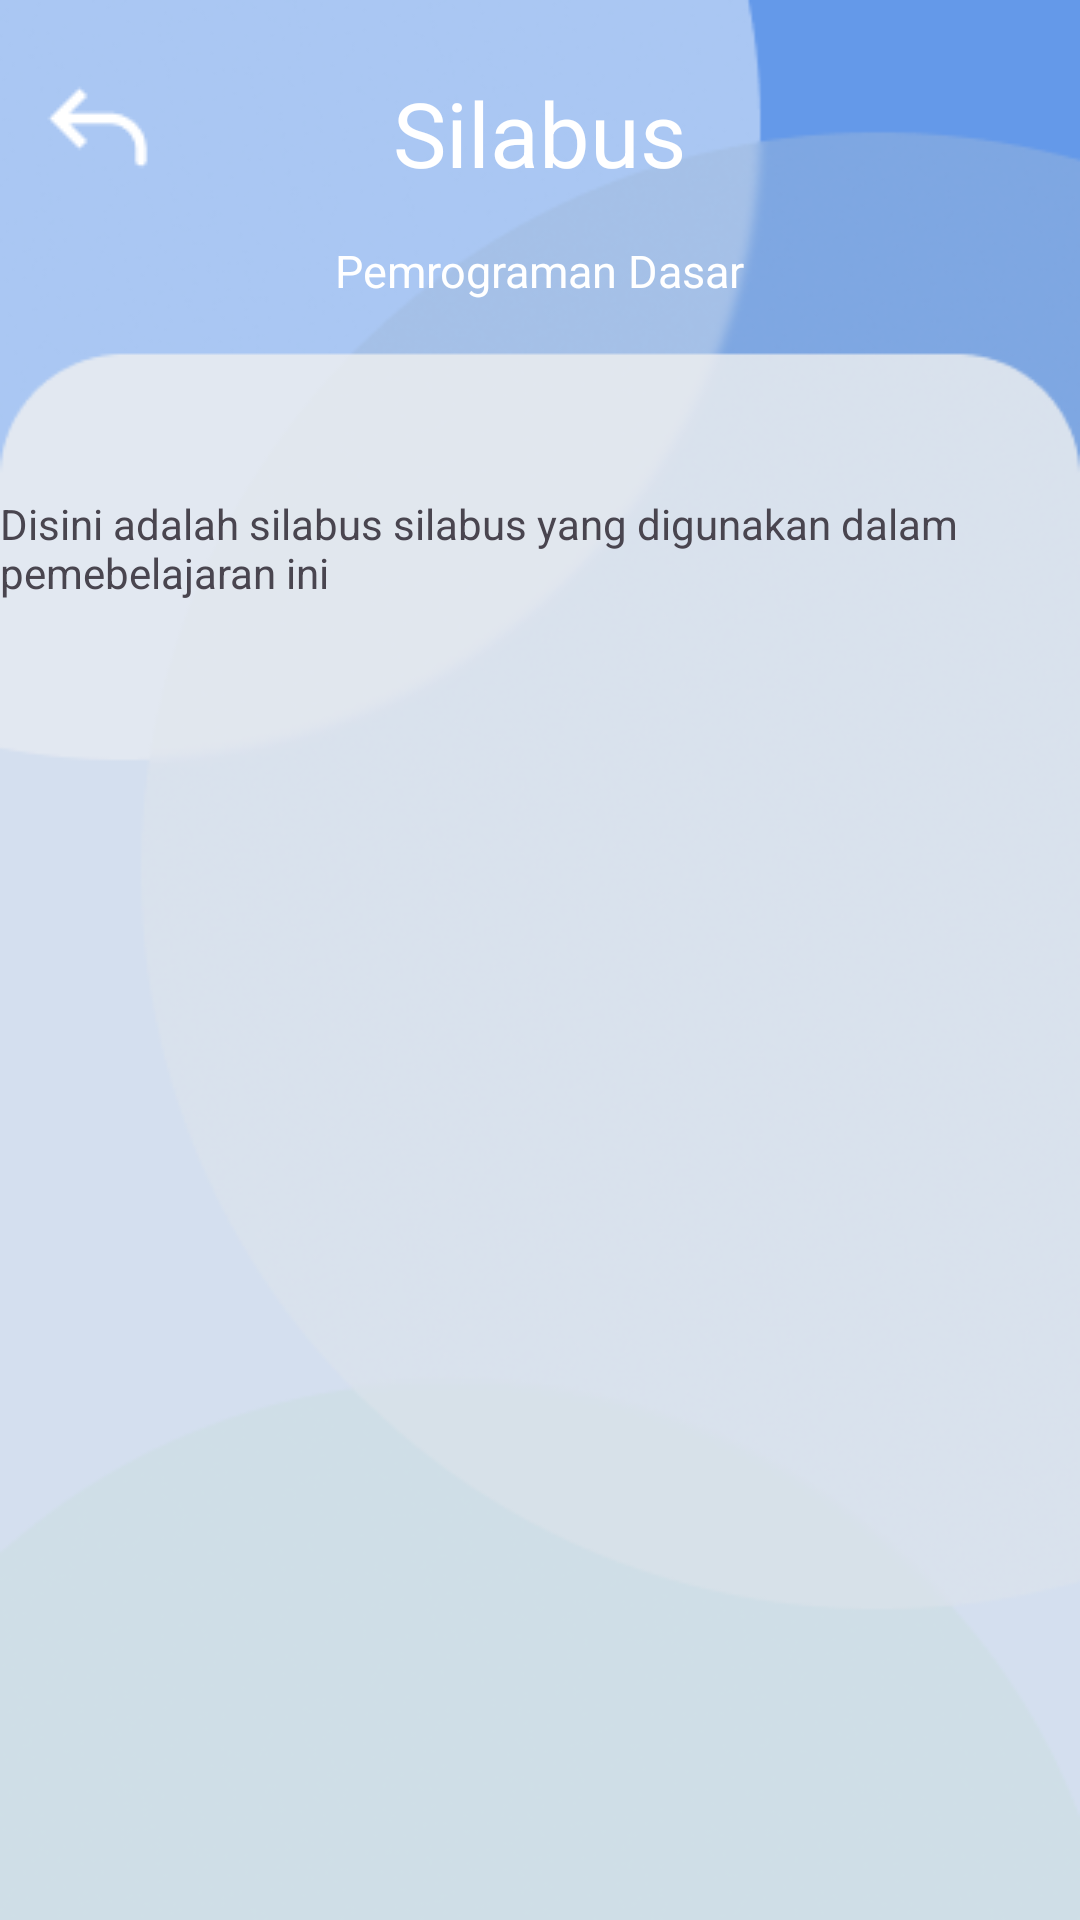

Where to tap for icons on this 1080 × 1920 app screen, as (x,y):
backbutton: (98,127)
